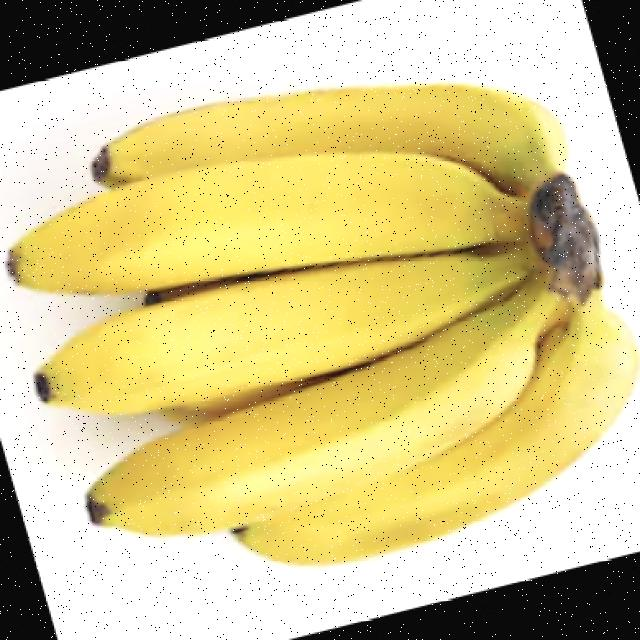god quality banana: (8, 83, 637, 565)
